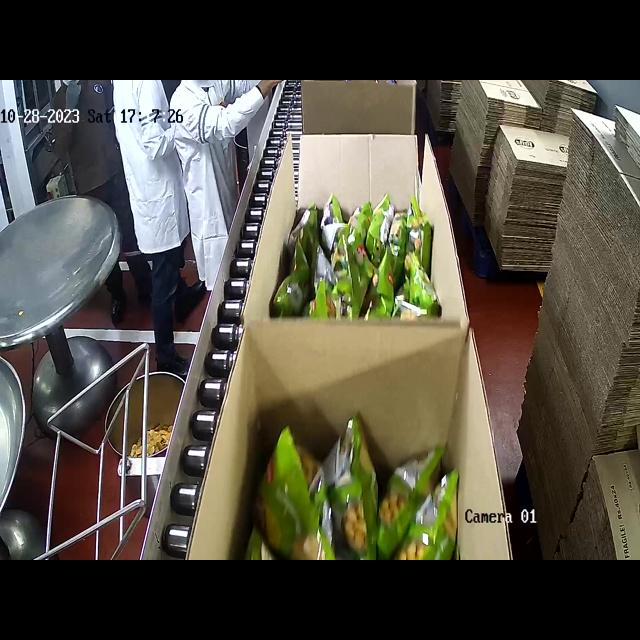yogurt: (257, 404, 462, 560), (269, 190, 442, 320)
